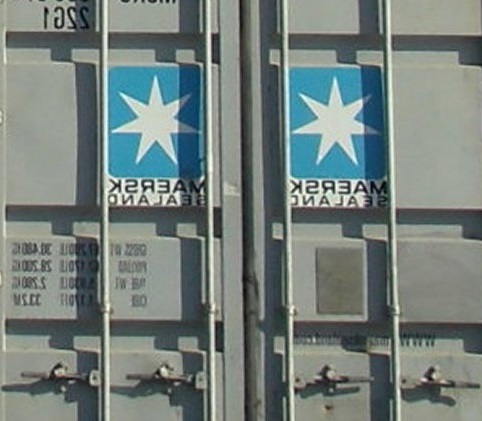container_door: (2, 2, 473, 416)
